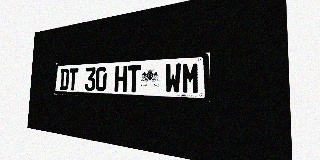0: (95, 67, 107, 91)
3: (85, 67, 96, 91)
D: (60, 68, 69, 90)
H: (114, 66, 127, 92)
M: (182, 62, 200, 94)
T: (127, 65, 141, 92), (68, 68, 78, 91)
W: (165, 63, 181, 94)
